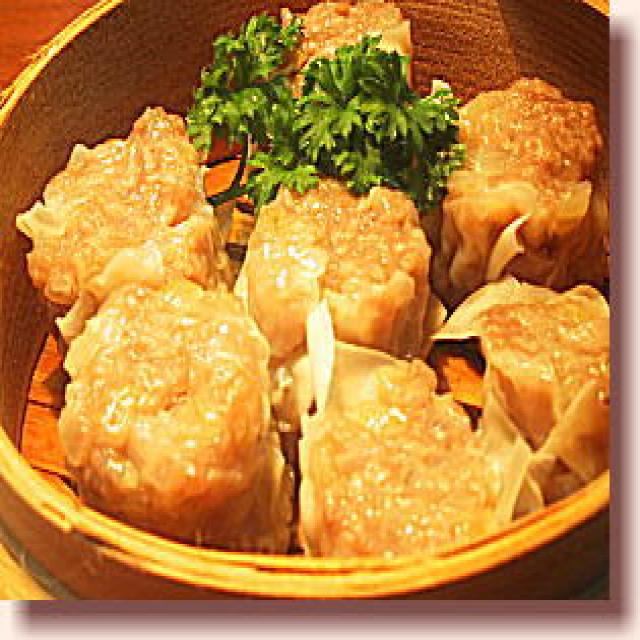带馅早点: (44, 5, 606, 544)
